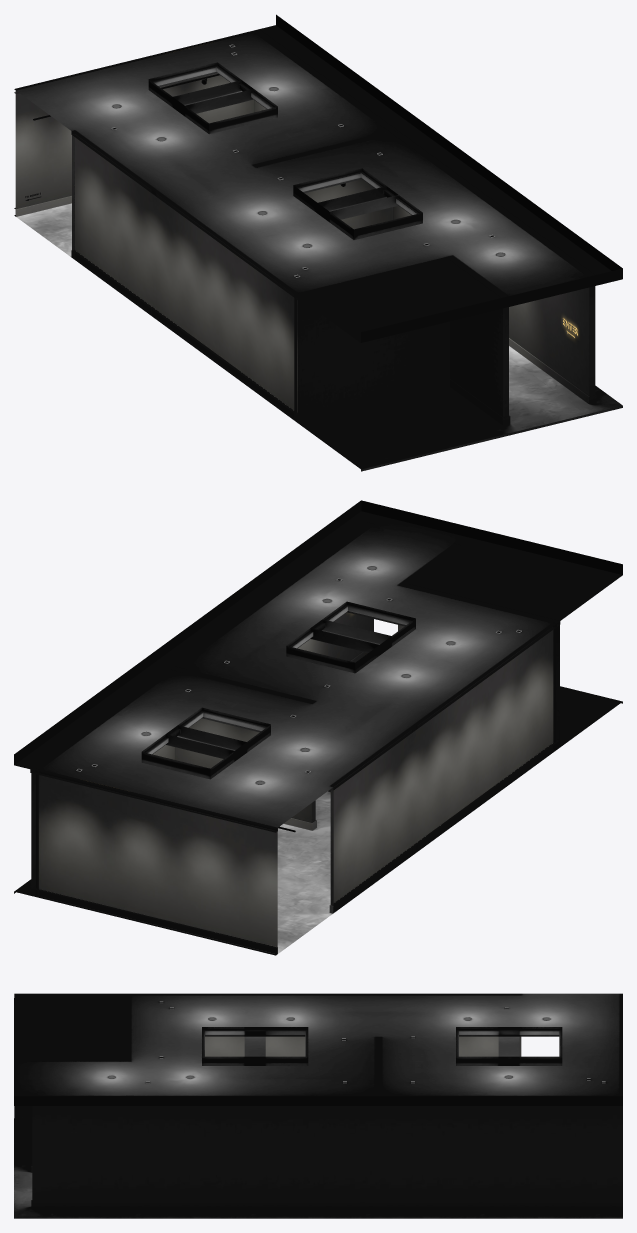
File: Room_1.glb
The picture shows the model from 3 angles, top to bottom: view 1: azimuth 30°, elevation 25°; view 2: azimuth 150°, elevation 25°; view 3: azimuth 270°, elevation 25°; orthographic projection. The views are drawn at different scales.
Parts seen in each view (by area): view 1: room_1.001; view 2: room_1.001; view 3: room_1.001.
Boxes of the visible parts, left/top/right/bottom form: room_1.001: left=14, top=14, right=622, bottom=471; room_1.001: left=14, top=500, right=622, bottom=955; room_1.001: left=14, top=993, right=622, bottom=1218.
Size of the model in its own units: 6.53 by 3.32 by 14.99.
Materials: 3 (3 with a texture image).
